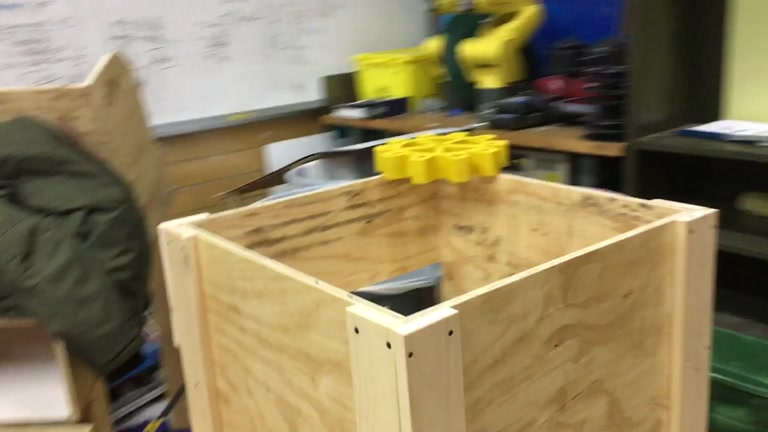gear: (370, 128, 511, 184)
